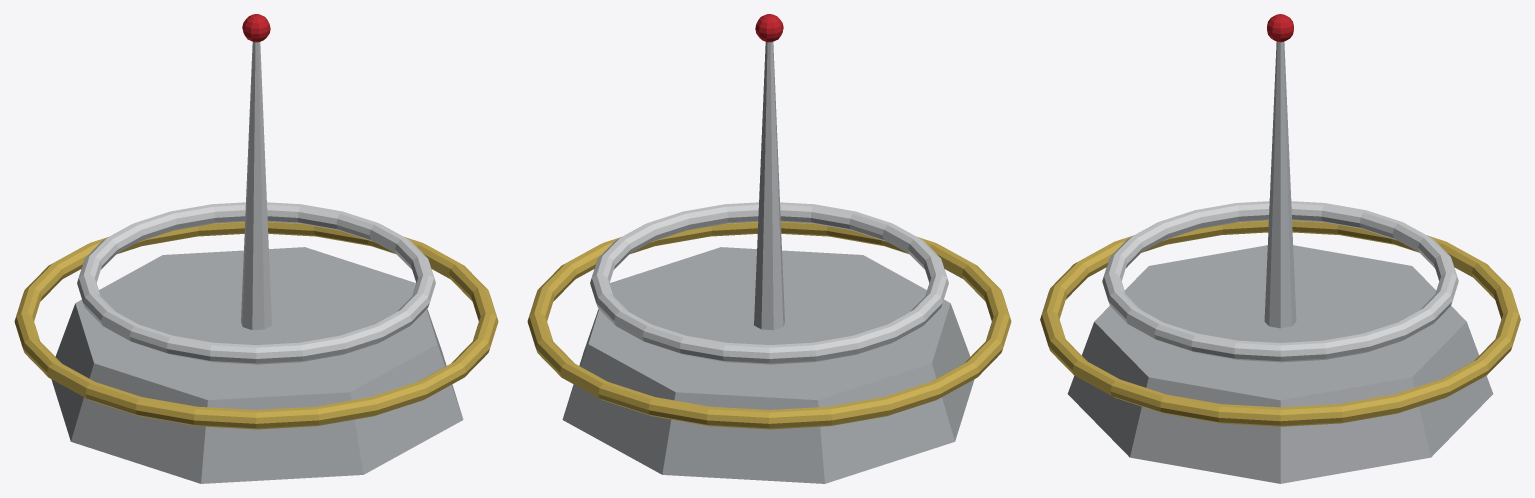
Rendered from vincom-hero.glb.
The picture shows the model from 3 angles, left to right: view 1: azimuth 30°, elevation 25°; view 2: azimuth 150°, elevation 25°; view 3: azimuth 270°, elevation 25°; orthographic projection.
Parts seen in each view (by area): view 1: vincom_hero_ornaments; view 2: vincom_hero_ornaments; view 3: vincom_hero_ornaments.
Part boxes in pixels (x1,y1,x2,y2): vincom_hero_ornaments: [14, 14, 498, 483]; vincom_hero_ornaments: [527, 14, 1011, 483]; vincom_hero_ornaments: [1040, 14, 1520, 483].
Bounding box in the file's own units: 10.84 × 9.42 × 10.84.
